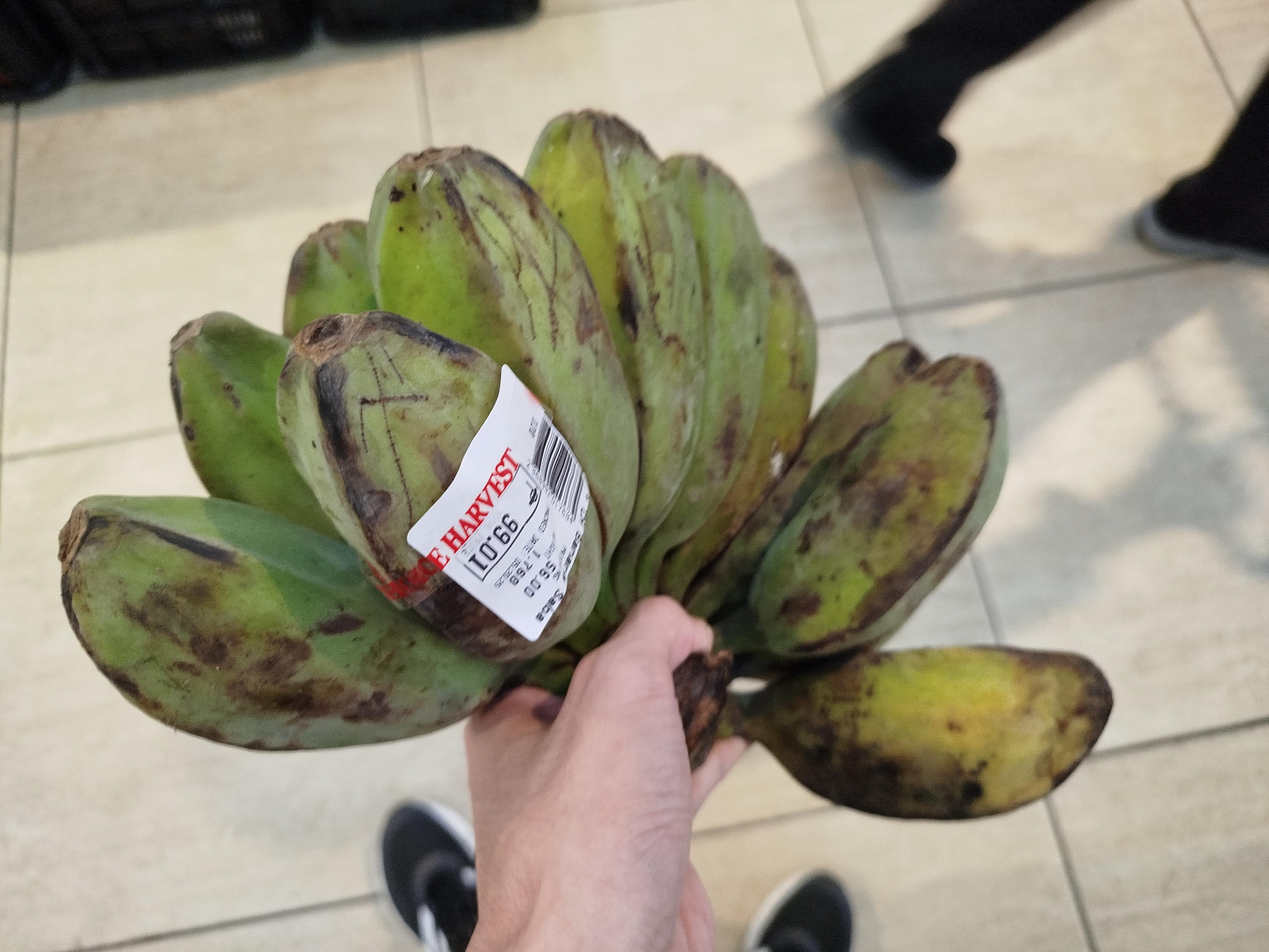underripe: (59, 113, 1112, 819)
